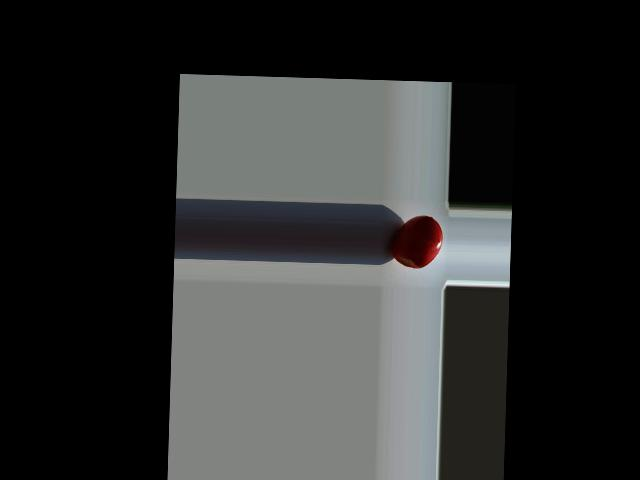tomato: (391, 214, 443, 268)
